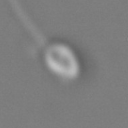normal: (3, 1, 46, 45)
